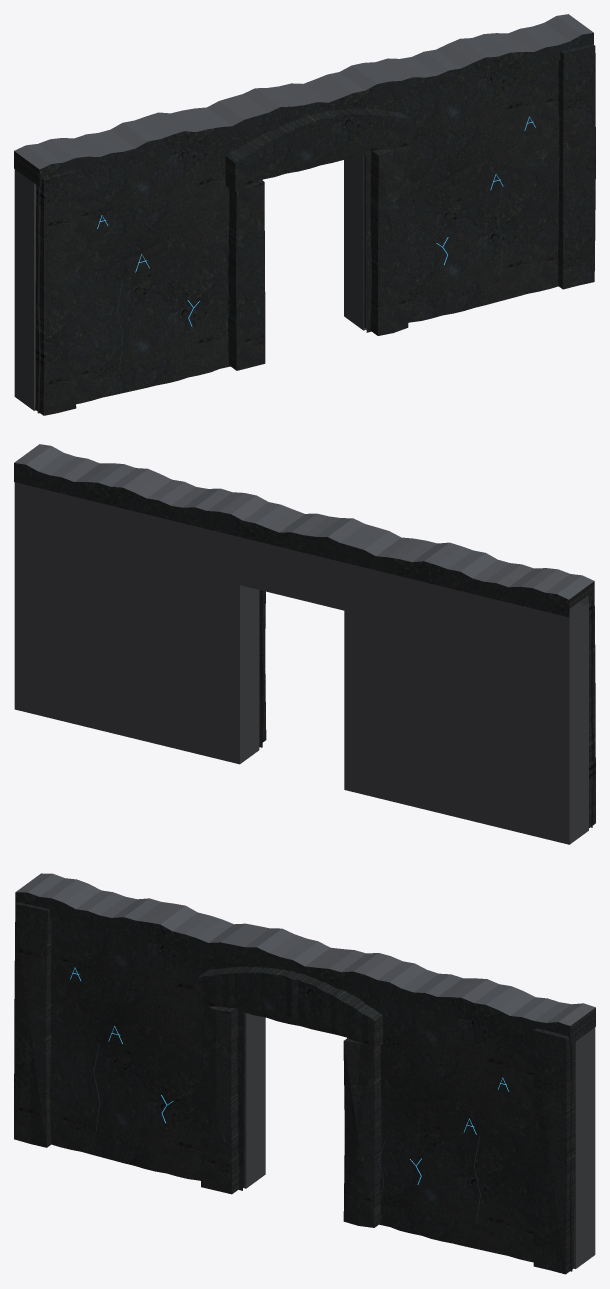
Rendered from Wall_Arcanista_V005_PlayCanvas_Preview.glb.
3 views of the same model, one above another, from view 1: azimuth 30°, elevation 25°; view 2: azimuth 150°, elevation 25°; view 3: azimuth 330°, elevation 25° (orthographic).
Visible parts, largest first — view 1: ASSET_ContinuousSlabRight, ASSET_ContinuousSlabLeft, ASSET_ContinuousJaggedRoofCoping, ASSET_EdgeMonolith_-1, ASSET_EdgeMonolith_1, ASSET_ConnectedStonePortal, ASSET_CutBasaltJamb_1, ASSET_CutBasaltJamb_-1, ASSET_Structural_left, ASSET_Structural_right, ASSET_ContinuousSlabAboveDoor, ASSET_DarkStoneInnerReveal_1; view 2: ASSET_Structural_left, ASSET_Structural_right, ASSET_ContinuousJaggedRoofCoping, ASSET_Structural_head, ASSET_EdgeMonolith_-1, ASSET_ContinuousSlabLeft, ASSET_CutBasaltJamb_1, ASSET_ContinuousSlabRight; view 3: ASSET_ContinuousSlabLeft, ASSET_ContinuousSlabRight, ASSET_ContinuousJaggedRoofCoping, ASSET_EdgeMonolith_1, ASSET_EdgeMonolith_-1, ASSET_ConnectedStonePortal, ASSET_CutBasaltJamb_-1, ASSET_CutBasaltJamb_1, ASSET_Structural_right, ASSET_Structural_left, ASSET_ContinuousSlabAboveDoor, ASSET_DarkStoneInnerReveal_-1.
Part boxes in pixels (x1,y1,x2,y2): ASSET_ContinuousSlabRight: [366, 60, 559, 332]; ASSET_ContinuousSlabLeft: [37, 133, 263, 413]; ASSET_ContinuousJaggedRoofCoping: [14, 14, 593, 187]; ASSET_EdgeMonolith_-1: [35, 170, 76, 415]; ASSET_EdgeMonolith_1: [558, 44, 595, 289]; ASSET_ConnectedStonePortal: [225, 108, 412, 192]; ASSET_CutBasaltJamb_1: [370, 148, 408, 335]; ASSET_CutBasaltJamb_-1: [228, 179, 265, 370]; ASSET_Structural_left: [14, 162, 36, 410]; ASSET_Structural_right: [344, 155, 366, 330]; ASSET_ContinuousSlabAboveDoor: [262, 107, 367, 179]; ASSET_DarkStoneInnerReveal_1: [364, 154, 367, 328]; ASSET_Structural_left: [344, 562, 588, 844]; ASSET_Structural_right: [14, 482, 259, 764]; ASSET_ContinuousJaggedRoofCoping: [14, 444, 594, 617]; ASSET_Structural_head: [240, 537, 344, 610]; ASSET_EdgeMonolith_-1: [589, 599, 595, 827]; ASSET_ContinuousSlabLeft: [591, 599, 594, 827]; ASSET_CutBasaltJamb_1: [262, 591, 266, 742]; ASSET_ContinuousSlabRight: [259, 590, 263, 747]; ASSET_ContinuousSlabLeft: [49, 919, 243, 1190]; ASSET_ContinuousSlabRight: [346, 991, 572, 1271]; ASSET_ContinuousJaggedRoofCoping: [15, 873, 595, 1045]; ASSET_EdgeMonolith_1: [533, 1028, 575, 1274]; ASSET_EdgeMonolith_-1: [14, 902, 51, 1147]; ASSET_ConnectedStonePortal: [196, 966, 382, 1050]; ASSET_CutBasaltJamb_-1: [200, 1006, 239, 1194]; ASSET_CutBasaltJamb_1: [343, 1038, 381, 1227]; ASSET_Structural_right: [573, 1027, 595, 1268]; ASSET_Structural_left: [243, 1013, 265, 1188]; ASSET_ContinuousSlabAboveDoor: [242, 965, 346, 1037]; ASSET_DarkStoneInnerReveal_-1: [242, 1012, 245, 1186].
Size of the model in its own units: 7.88 by 3.39 by 0.8168.
Materials: 6 (2 with a texture image).
